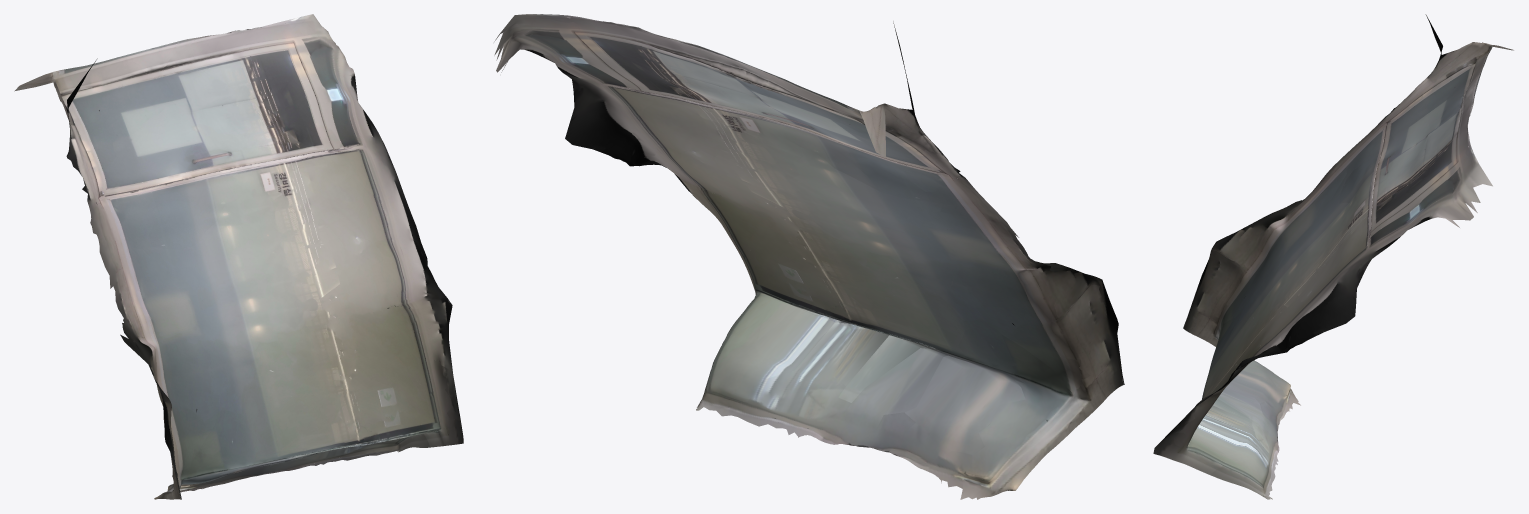
File: 경비실.fbx
The picture shows the model from 3 angles, left to right: view 1: azimuth 30°, elevation 25°; view 2: azimuth 150°, elevation 25°; view 3: azimuth 270°, elevation 25°; orthographic projection. The views are drawn at different scales.
Visible parts, largest first — view 1: Untitled; view 2: Untitled; view 3: Untitled.
Part boxes in pixels (x1=…): Untitled: x1=14, y1=14, x2=463, y2=499; Untitled: x1=494, y1=14, x2=1124, y2=499; Untitled: x1=1153, y1=14, x2=1513, y2=499.
Size of the model in its own units: 98.33 by 116 by 99.14.
Materials: 1 (1 with a texture image).
